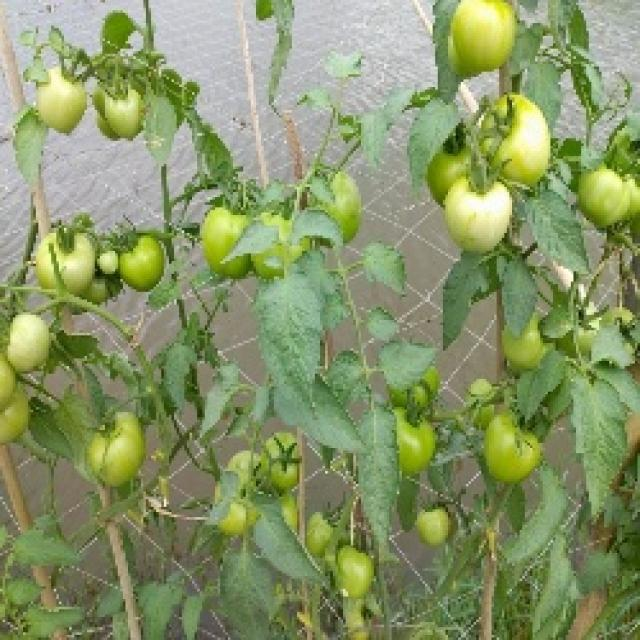tomato: (472, 91, 556, 189), (444, 1, 531, 80), (452, 179, 521, 258), (481, 417, 547, 489), (196, 208, 252, 283), (489, 314, 557, 375), (310, 173, 370, 239), (92, 418, 146, 491), (35, 227, 97, 284), (32, 61, 85, 126), (397, 413, 437, 490), (334, 546, 390, 600), (578, 166, 622, 226), (433, 140, 472, 203), (10, 314, 52, 372), (105, 85, 147, 140), (114, 231, 157, 284), (268, 432, 309, 481), (602, 308, 640, 359), (422, 507, 467, 549), (395, 377, 446, 414), (4, 377, 29, 448), (221, 507, 268, 537), (307, 505, 333, 549), (230, 454, 259, 493), (80, 276, 111, 302), (1, 358, 16, 408), (88, 248, 117, 272), (280, 495, 297, 531), (269, 208, 288, 235)
